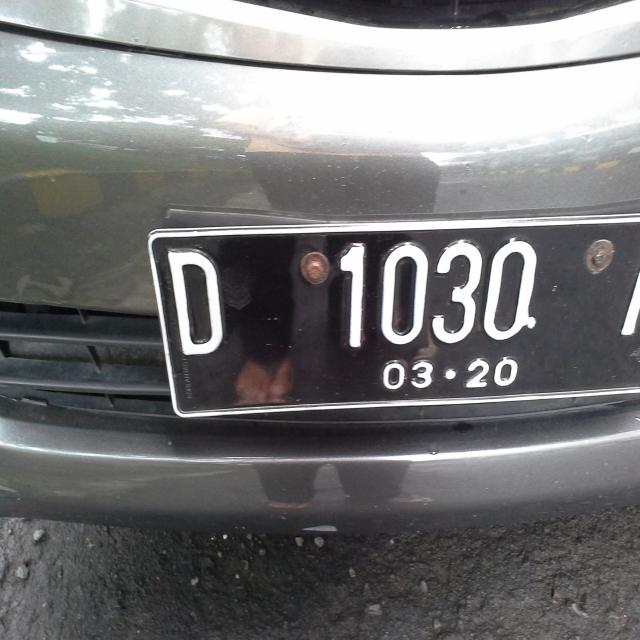license-plat: (122, 162, 640, 486)
